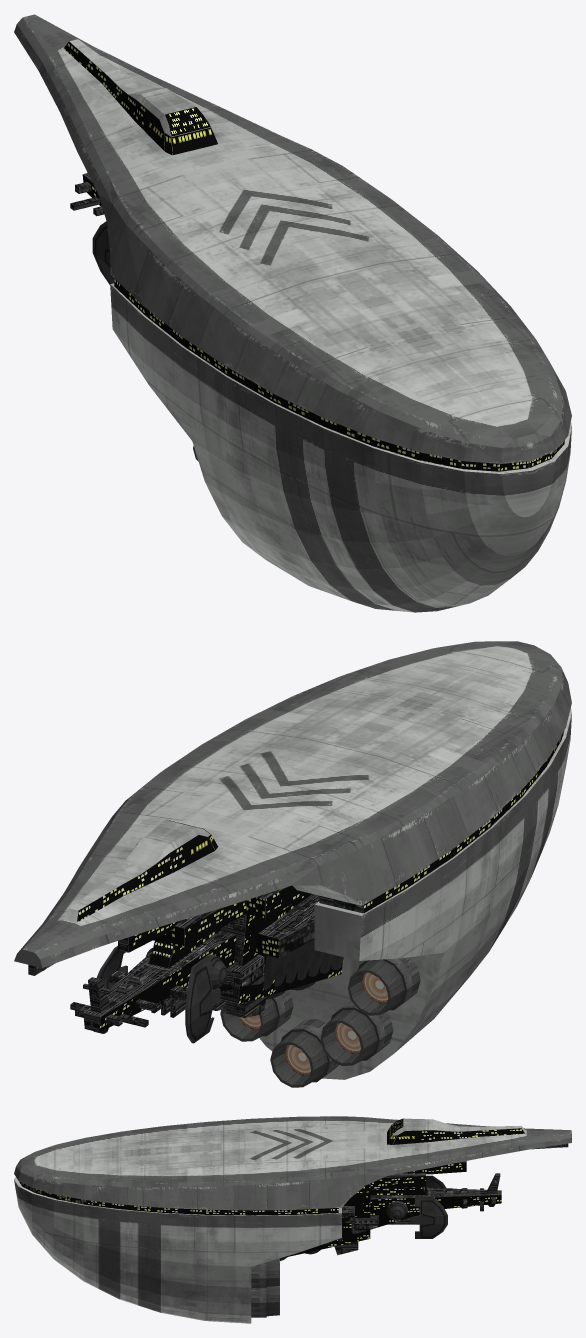
File: Mercy_Frigate.obj
The picture shows the model from 3 angles, top to bottom: view 1: azimuth 30°, elevation 25°; view 2: azimuth 150°, elevation 25°; view 3: azimuth 270°, elevation 25°; orthographic projection. The views are drawn at different scales.
Parts seen in each view (by area): view 1: Hull, lights; view 2: Hull, lights; view 3: Hull, lights.
Boxes of the visible parts, x1,y1,x2,y2 form: Hull: (14,14,571,612); lights: (64,42,565,471); Hull: (14,641,571,1087); lights: (77,731,564,1075); Hull: (14,1116,571,1323); lights: (19,1118,524,1258).
Bounding box in the file's own units: 145 × 181 × 465.
